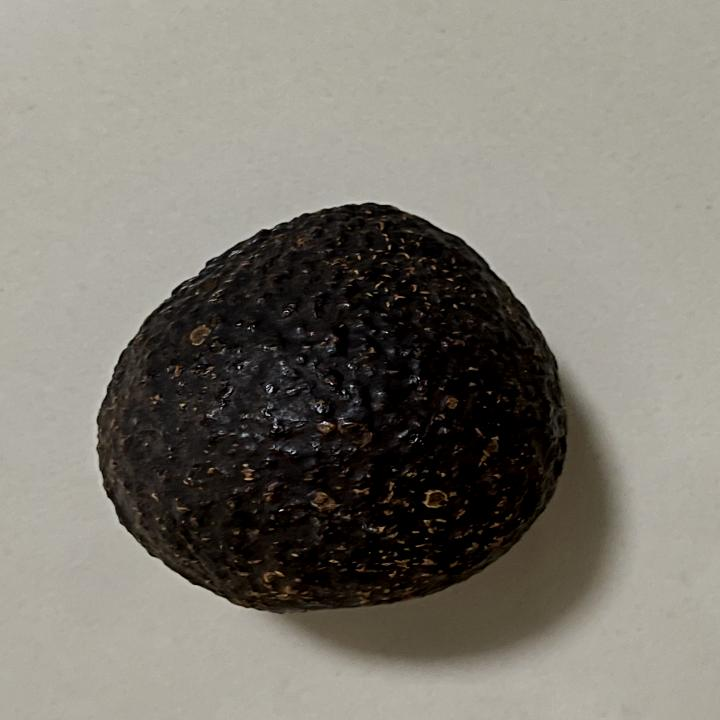Level2: (87, 192, 575, 620)
